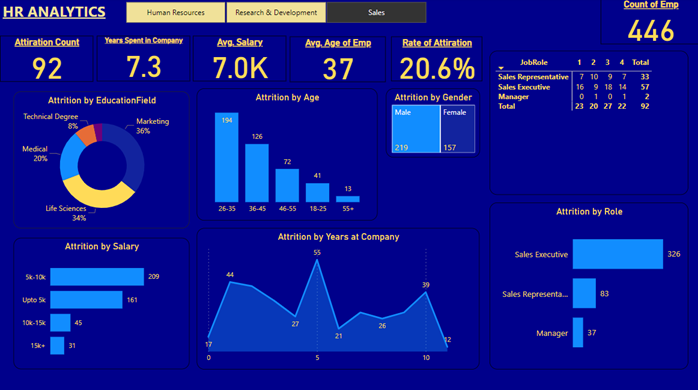

The page's visual inventory and layout, read from the dashboard file:
{"tool":"powerbi","page":{"name":"Page 1","canvas":[1280,720],"ordinal":0},"visuals":[{"type":"card","title":"Count of Emp","fields":{"Values":["CountNonNull(HR_Analytics.EmpID)"]},"box":[1097.2,0,183.1,84.3],"z":0},{"type":"card","title":"Attiration Count","fields":{"Values":["Sum(HR_Analytics.AttirationCount)"]},"box":[0,68.3,170,84.3],"z":1},{"type":"card","title":"Rate of Attiration","fields":{"Values":["HR_Analytics.AttritionRate"]},"box":[715,70,166.7,81.7],"z":2},{"type":"card","title":"Avg. Age of Emp","fields":{"Values":["Avg(HR_Analytics.Age)"]},"box":[530,70,175,83.3],"z":3},{"type":"card","title":"Avg. Salary","fields":{"Values":["Avg(HR_Analytics.MonthlyIncome)"]},"box":[353.3,68.3,170,83.3],"z":4},{"type":"card","title":"Years Spent in Company","fields":{"Values":["Avg(HR_Analytics.YearsAtCompany)"]},"box":[176.7,68.3,170,83.3],"z":5},{"type":"donutChart","title":"Attrition by EducationField","fields":{"Category":["HR_Analytics.EducationField"],"Y":["CountNonNull(HR_Analytics.Attrition)"]},"box":[25,170,321.7,250],"z":6},{"type":"columnChart","title":"Attrition by Age","fields":{"Category":["HR_Analytics.AgeGroup"],"Y":["CountNonNull(HR_Analytics.Attrition)"]},"box":[360,165,330,241.7],"z":7},{"type":"pivotTable","fields":{"Rows":["HR_Analytics.JobRole"],"Columns":["HR_Analytics.JobSatisfaction"],"Values":["Sum(HR_Analytics.AttirationCount)"]},"box":[895,96.7,363.3,263.3],"z":8},{"type":"barChart","title":"Attrition by Salary","fields":{"Category":["HR_Analytics.SalarySlab"],"Y":["CountNonNull(HR_Analytics.Attrition)"]},"box":[25,438.3,321.7,240],"z":9},{"type":"barChart","title":"Attrition by Role","fields":{"Y":["CountNonNull(HR_Analytics.Attrition)"],"Category":["HR_Analytics.JobRole"]},"box":[895,373.3,363.3,305],"z":10},{"type":"areaChart","title":"Attrition by Years at Company","fields":{"Category":["HR_Analytics.YearsAtCompany"],"Y":["CountNonNull(HR_Analytics.Attrition)"]},"box":[360,420,516.7,258.3],"z":11},{"type":"treemap","title":"Attrition by Gender","fields":{"Group":["HR_Analytics.Gender"],"Values":["CountNonNull(HR_Analytics.Attrition)"]},"box":[705,165,171.7,126.7],"z":12},{"type":"slicer","fields":{"Values":["HR_Analytics.Department"]},"box":[205,0,598.3,51.7],"z":13},{"type":"textbox","box":[0,0,240,56.7],"z":14}]}

Visuals, with their boxes on the page's 1280x720 design canvas (x1, y1, x2, y2). These are canvas units, not pixel positions in the 698x390 screenshot, which may show the page scaled, cropped or inside an application window:
"Count of Emp" card: left=1097, top=0, right=1280, bottom=84
"Attiration Count" card: left=0, top=68, right=170, bottom=153
"Rate of Attiration" card: left=715, top=70, right=882, bottom=152
"Avg. Age of Emp" card: left=530, top=70, right=705, bottom=153
"Avg. Salary" card: left=353, top=68, right=523, bottom=152
"Years Spent in Company" card: left=177, top=68, right=347, bottom=152
"Attrition by EducationField" donutChart: left=25, top=170, right=347, bottom=420
"Attrition by Age" columnChart: left=360, top=165, right=690, bottom=407
pivotTable - HR_Analytics.JobRole x HR_Analytics.JobSatisfaction: left=895, top=97, right=1258, bottom=360
"Attrition by Salary" barChart: left=25, top=438, right=347, bottom=678
"Attrition by Role" barChart: left=895, top=373, right=1258, bottom=678
"Attrition by Years at Company" areaChart: left=360, top=420, right=877, bottom=678
"Attrition by Gender" treemap: left=705, top=165, right=877, bottom=292
slicer - HR_Analytics.Department: left=205, top=0, right=803, bottom=52
textbox: left=0, top=0, right=240, bottom=57
